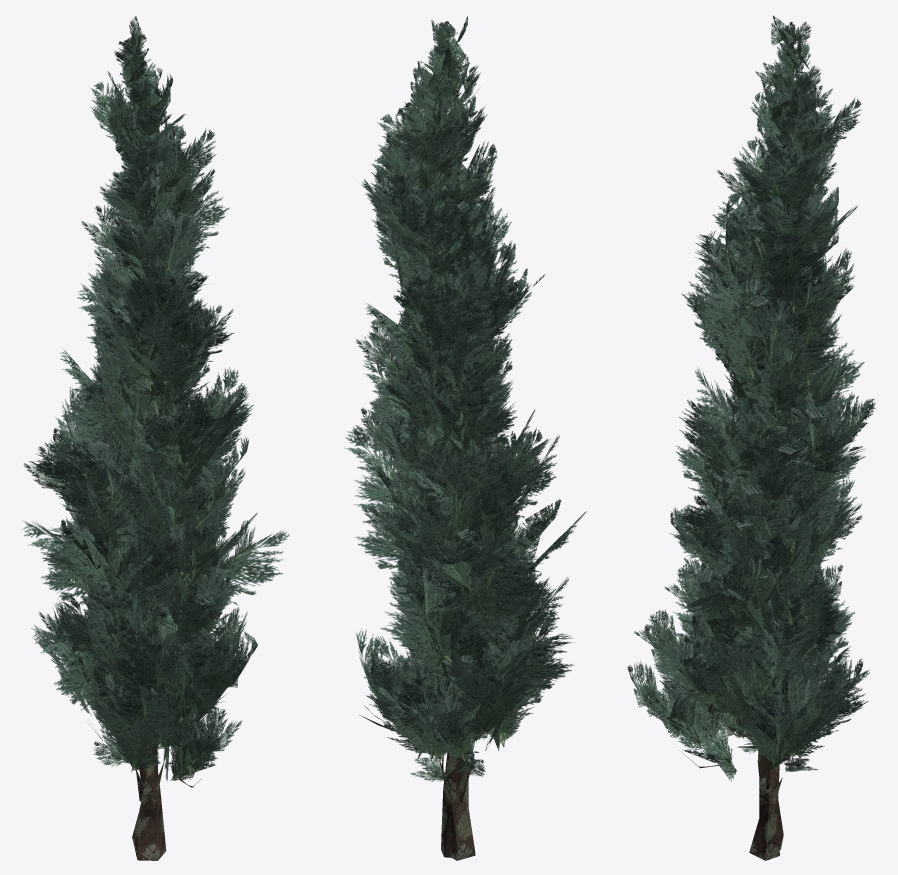
File: tree-cypress-lo.glb
The picture shows the model from 3 angles, left to right: view 1: azimuth 30°, elevation 25°; view 2: azimuth 150°, elevation 25°; view 3: azimuth 270°, elevation 25°; orthographic projection. The views are drawn at different scales.
Parts seen in each view (by area): view 1: Cypress_V2_test_Cypress_2_sided_0, Cypress_V2_test_Cypress_bark_0; view 2: Cypress_V2_test_Cypress_2_sided_0, Cypress_V2_test_Cypress_bark_0; view 3: Cypress_V2_test_Cypress_2_sided_0, Cypress_V2_test_Cypress_bark_0.
Part boxes in pixels (x1,y1,x2,y2): Cypress_V2_test_Cypress_2_sided_0: (22, 16, 289, 780); Cypress_V2_test_Cypress_bark_0: (83, 576, 226, 860); Cypress_V2_test_Cypress_2_sided_0: (344, 16, 586, 781); Cypress_V2_test_Cypress_bark_0: (359, 393, 488, 860); Cypress_V2_test_Cypress_2_sided_0: (627, 15, 875, 781); Cypress_V2_test_Cypress_bark_0: (678, 454, 808, 860).
Size of the model in its own units: 1.66 by 5.27 by 1.47.
3 materials, 2 textured.
